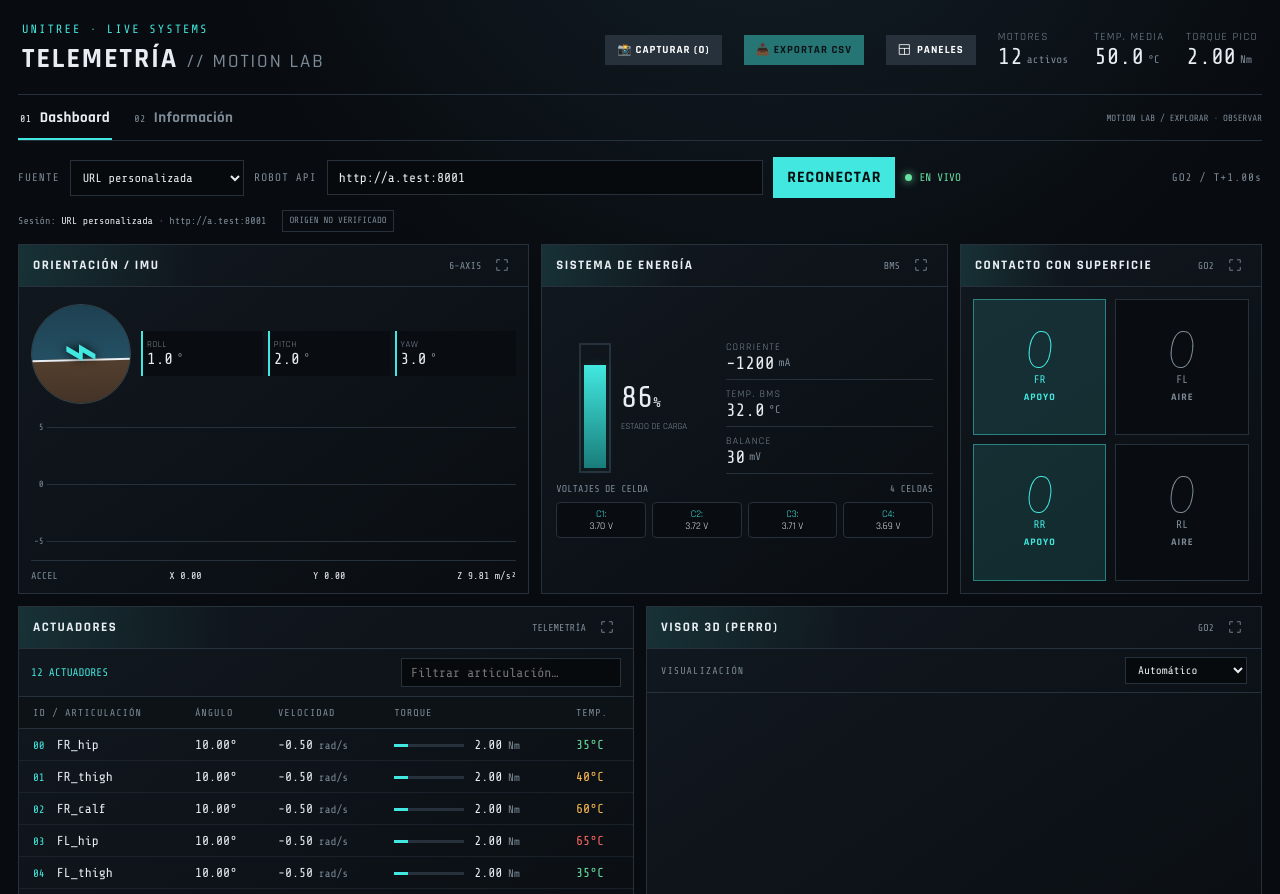
Scenario: reports a profile mismatch without changing real rows or the visual selector
Select "G1 / Humanoide" in the dropdown named "Fuente de telemetría": (157, 178) [70, 160, 244, 196]
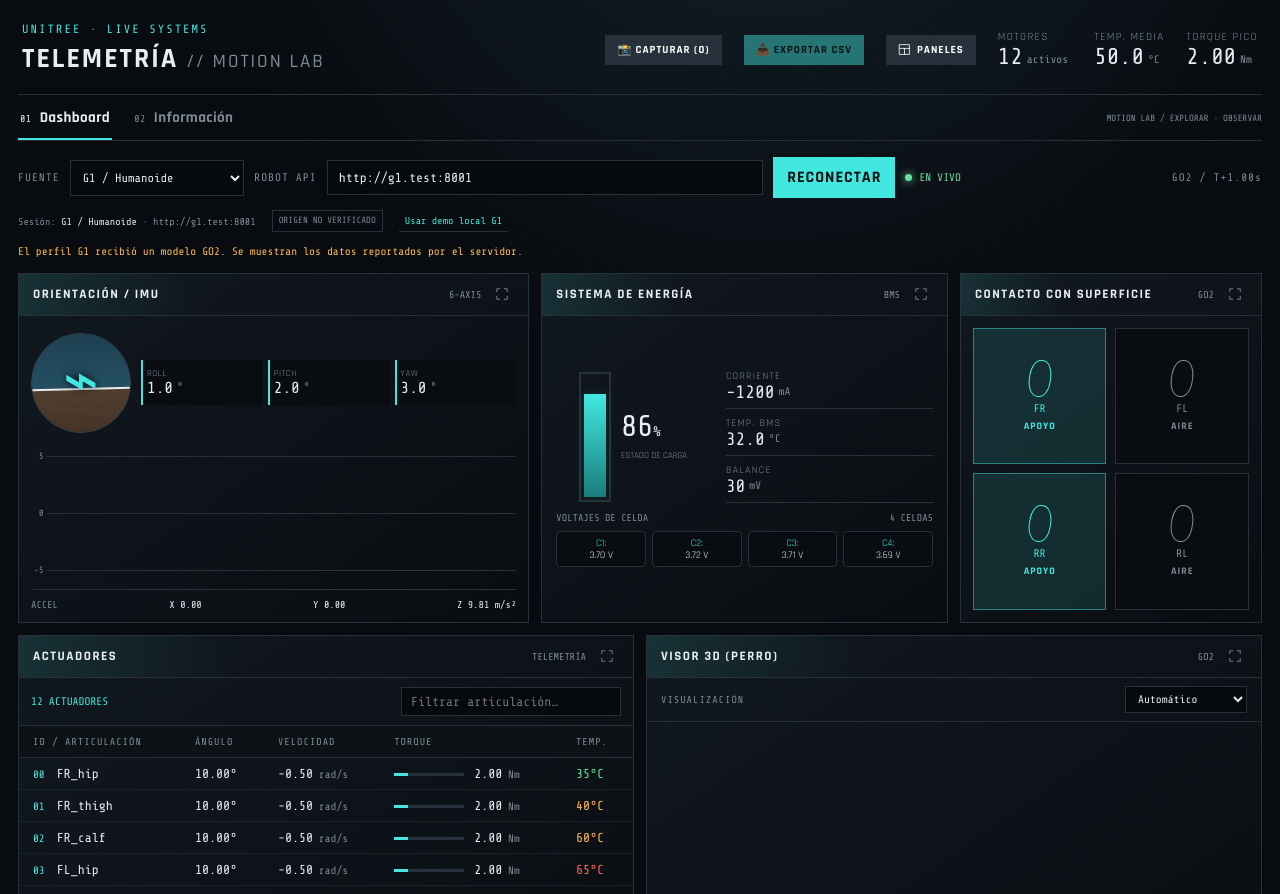
Check: the dropdown named "Modelo del visor 3D" shows "Automático", box [1125, 686, 1247, 712]
Check: the text "El perfil G1 recibió un modelo GO2" is shown, box [18, 245, 523, 258]
